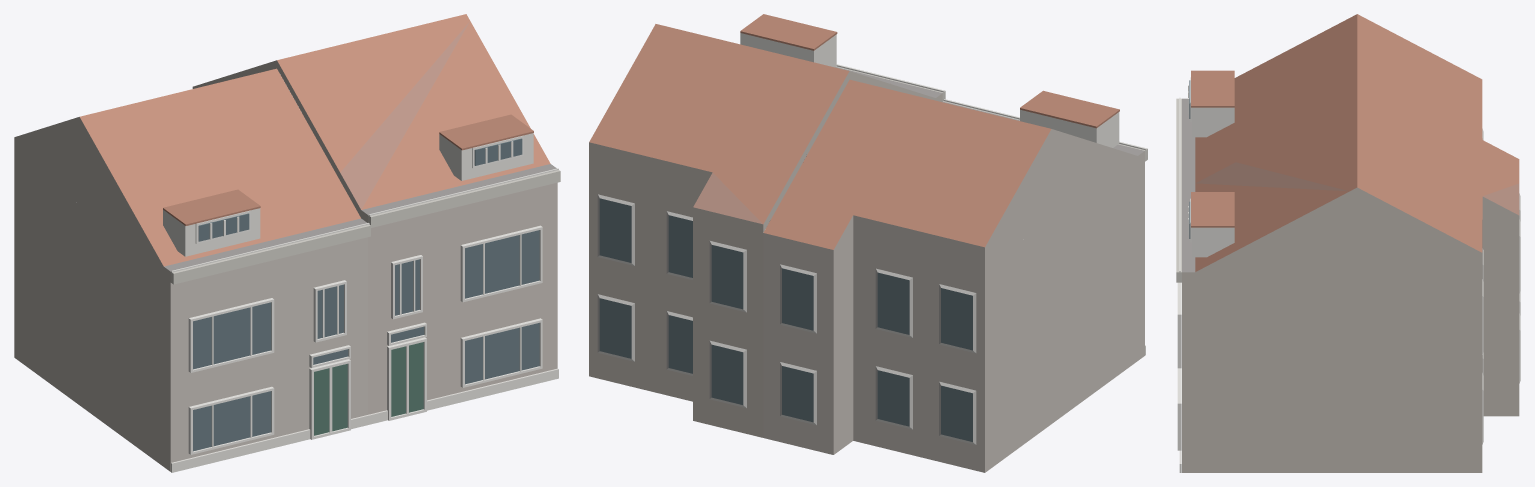
The model's file is chunk-face-pelikaan-3-9-r1.glb.
3 views of the same model, side by side, from view 1: azimuth 30°, elevation 25°; view 2: azimuth 150°, elevation 25°; view 3: azimuth 270°, elevation 25° (orthographic). The views are drawn at different scales.
Visible parts, largest first — view 1: face-pelikaan-3-9-r1; view 2: face-pelikaan-3-9-r1; view 3: face-pelikaan-3-9-r1.
Part boxes in pixels (x1,y1,x2,y2): face-pelikaan-3-9-r1: (14,14,560,472); face-pelikaan-3-9-r1: (589,14,1147,472); face-pelikaan-3-9-r1: (1176,14,1520,472).
Bounding box in the file's own units: 13.07 × 9.59 × 10.48.
